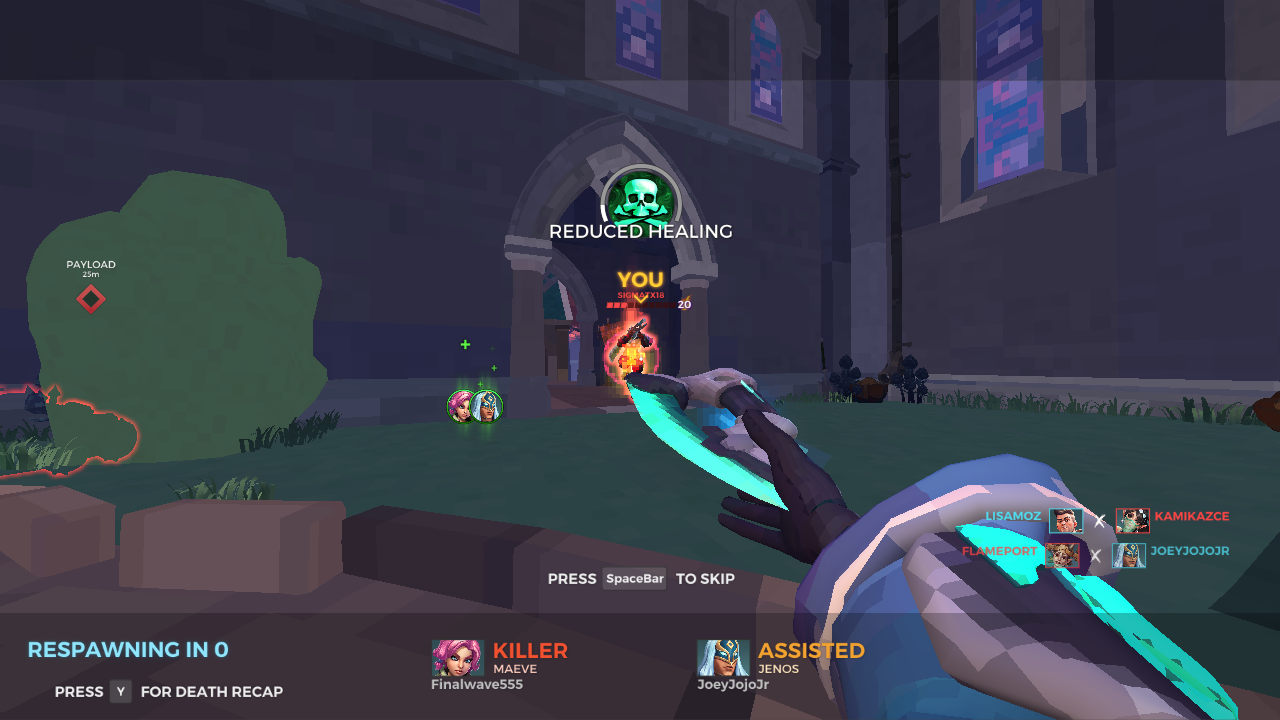model: (602, 320, 663, 402)
